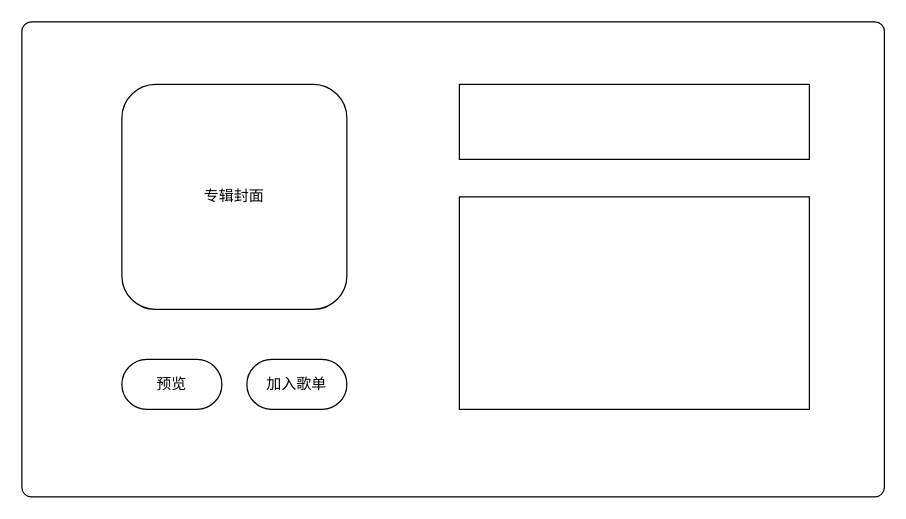
The diagram is 906 pixels wide and 519 high, and some of its shapes have lost their labels. The shapes that lost their labels are listed below. From the top down, each one's box as (x1, y1, x2, y2) in pixels, then its label:
(458, 83, 809, 159): 简单介绍
(458, 196, 809, 409): 歌词预览（可以延伸到下一页）
